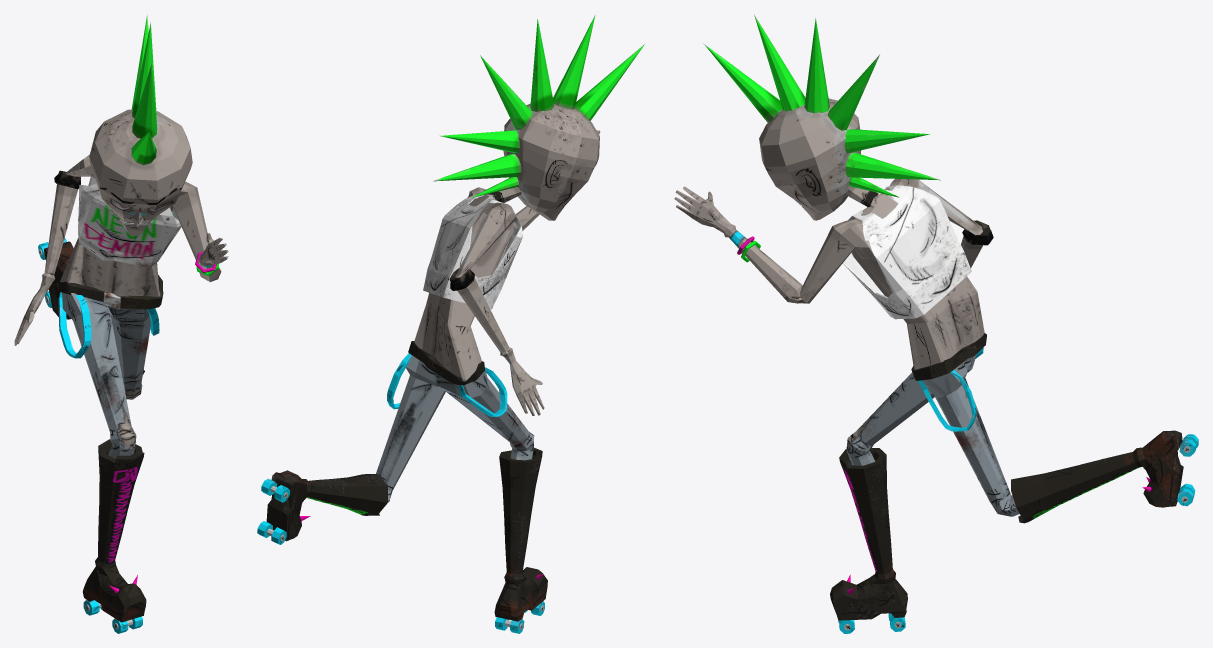
The model's file is punkAnimation_000030.obj.
3 renders of one model, left to right at view 1: azimuth 30°, elevation 25°; view 2: azimuth 150°, elevation 25°; view 3: azimuth 270°, elevation 25°, orthographic. The views are drawn at different scales.
Visible parts, largest first — view 1: Cube.004_Cube.003; view 2: Cube.004_Cube.003; view 3: Cube.004_Cube.003.
Boxes of the visible parts, x1,y1,x2,y2 form: Cube.004_Cube.003: [14, 15, 228, 633]; Cube.004_Cube.003: [257, 15, 645, 633]; Cube.004_Cube.003: [674, 14, 1198, 633].
Size of the model in its own units: 2.03 by 6.7 by 5.18.
